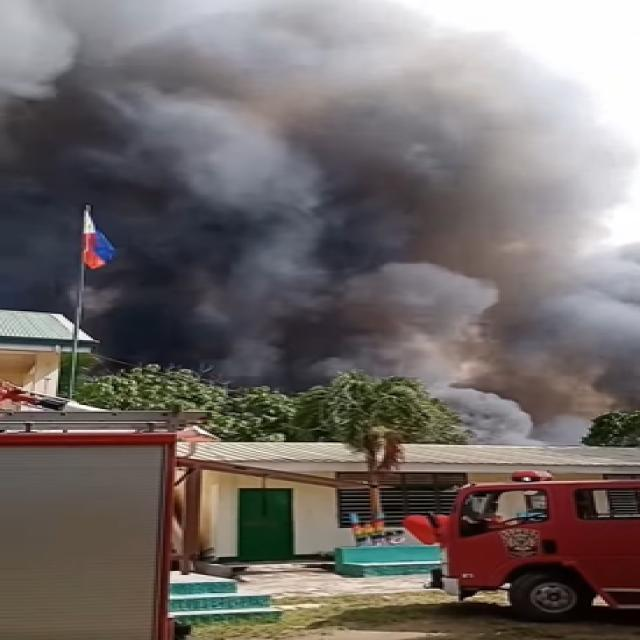Smoke: (116, 5, 640, 401)
